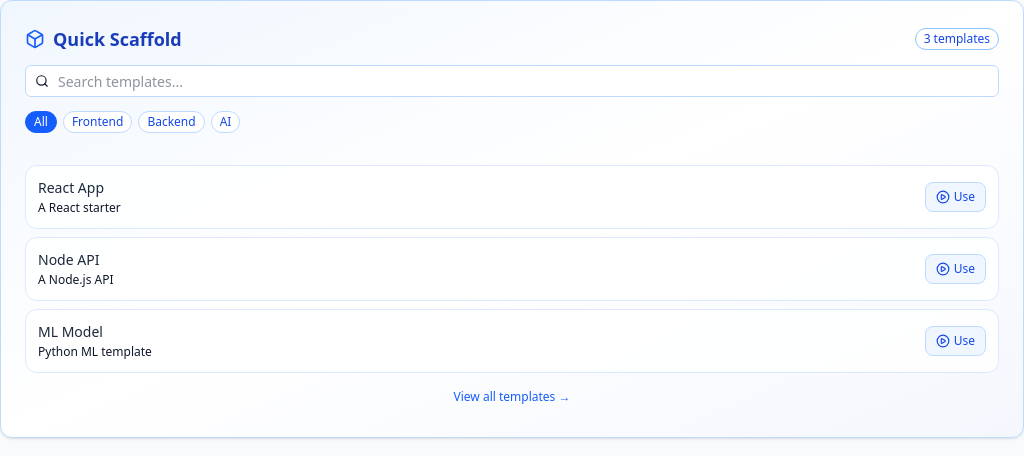
it: QuickScaffoldWidget › filters templates to the selected category when a category button is clicked
Expected: the text "React App" is shown, [38,178,104,197]
Click the button "Backend": point(172, 122) [138,111,205,133]
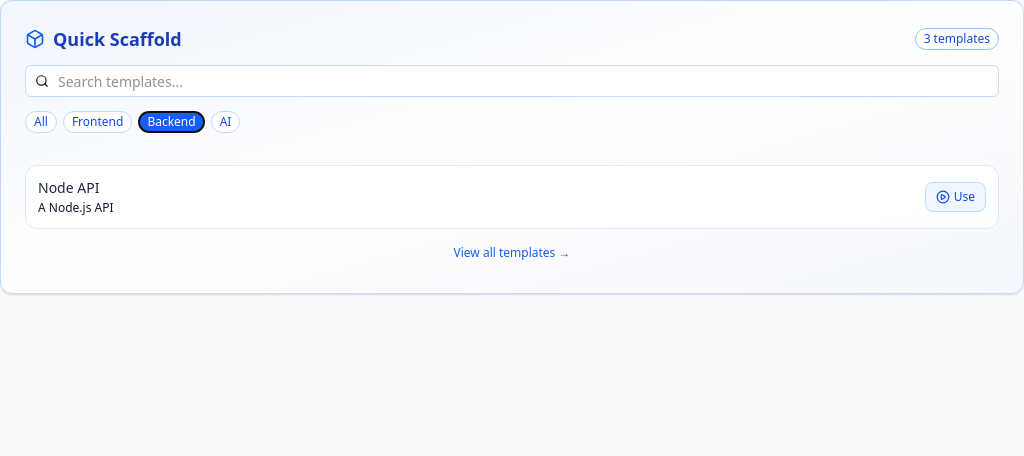
Expected: the text "Node API" is shown, [38,178,99,197]
Result: the text "React App" is gone
